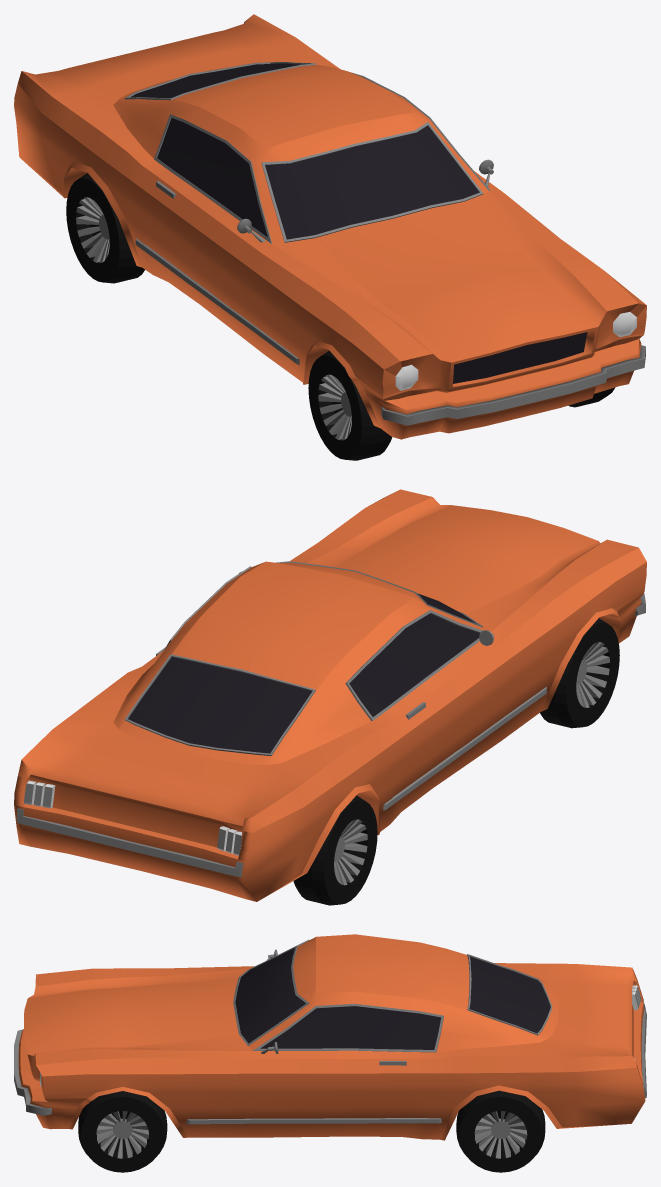
File: ford-mustang.fbx
The picture shows the model from 3 angles, top to bottom: view 1: azimuth 30°, elevation 25°; view 2: azimuth 150°, elevation 25°; view 3: azimuth 270°, elevation 25°; orthographic projection. The views are drawn at different scales.
Parts seen in each view (by area): view 1: Circle, Wheels, Circle.008, Circle.005, Circle.002, Circle.009, Circle.006; view 2: Circle, Wheels, Circle.010, Circle.002, Circle.006, Circle.009, Circle.003; view 3: Circle, Wheels, Circle.009, Circle.002, Circle.008, Circle.005, Circle.006, Circle.010.
Part boxes in pixels (x1,y1,x2,y2): Circle: (14,14,646,439); Wheels: (66,173,615,460); Circle.008: (381,345,645,425); Circle.005: (261,122,483,242); Circle.002: (154,72,490,243); Circle.009: (135,238,299,365); Circle.006: (125,62,315,100); Circle: (14,489,646,901); Wheels: (293,618,619,905); Circle.010: (17,808,243,877); Circle.002: (165,566,482,721); Circle.006: (124,654,315,755); Circle.009: (383,687,546,810); Circle.003: (24,780,241,855); Circle: (18,934,645,1140); Wheels: (78,1090,545,1172); Circle.009: (186,1118,441,1124); Circle.002: (253,1003,443,1052); Circle.008: (14,1029,51,1115); Circle.005: (233,939,309,1045); Circle.006: (467,954,552,1035); Circle.010: (641,1002,646,1097).
Bounding box in the file's own units: 8.75 × 6.57 × 22.69.
